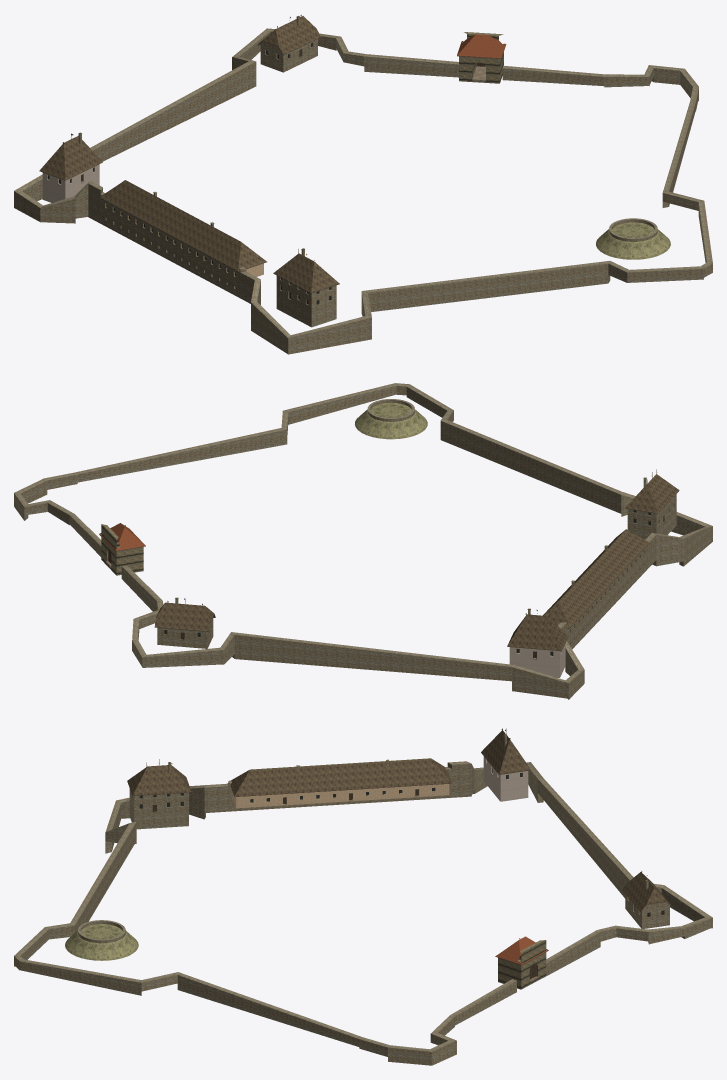
Rendered from fortyfikacje_lekki.glb.
3 renders of one model, top to bottom at view 1: azimuth 30°, elevation 25°; view 2: azimuth 150°, elevation 25°; view 3: azimuth 270°, elevation 25°, orthographic. The views are drawn at different scales.
Visible parts, largest first — view 1: fort_mur__kamien_mur, kurtyna_dach__gont, pawilon_SW_mur__kamien_mur, nadszaniec__ziemia, pawilon_W_dach__gont, pawilon_SW_dach__gont, pawilon_N_dach__gont, pawilon_W_mur__tynk, pawilon_N_mur__kamien_mur, brama_mur__kamien_detal, brama_dach__dachowka; view 2: fort_mur__kamien_mur, kurtyna_dach__gont, nadszaniec__ziemia, pawilon_W_dach__gont, pawilon_N_dach__gont, pawilon_SW_mur__kamien_mur, pawilon_W_mur__tynk, brama_mur__kamien_detal, pawilon_SW_dach__gont, pawilon_N_mur__kamien_mur, brama_dach__dachowka; view 3: fort_mur__kamien_mur, kurtyna_dach__gont, kurtyna_mur__tynk_ruina, pawilon_SW_mur__kamien_mur, nadszaniec__ziemia, pawilon_SW_dach__gont, brama_mur__kamien_detal, pawilon_W_mur__tynk, pawilon_W_dach__gont, pawilon_N_mur__kamien_mur, pawilon_N_dach__gont.
Boxes of the visible parts, left/top/right/bottom form: fort_mur__kamien_mur: left=14, top=28, right=712, bottom=354; kurtyna_dach__gont: left=99, top=180, right=266, bottom=271; pawilon_SW_mur__kamien_mur: left=276, top=275, right=336, bottom=327; nadszaniec__ziemia: left=596, top=222, right=670, bottom=259; pawilon_W_dach__gont: left=39, top=136, right=102, bottom=180; pawilon_SW_dach__gont: left=273, top=253, right=339, bottom=293; pawilon_N_dach__gont: left=262, top=16, right=320, bottom=54; pawilon_W_mur__tynk: left=42, top=164, right=99, bottom=202; pawilon_N_mur__kamien_mur: left=260, top=39, right=317, bottom=72; brama_mur__kamien_detal: left=459, top=32, right=503, bottom=83; brama_dach__dachowka: left=457, top=34, right=506, bottom=58; fort_mur__kamien_mur: left=14, top=383, right=712, bottom=699; kurtyna_dach__gont: left=543, top=529, right=649, bottom=628; nadszaniec__ziemia: left=355, top=402, right=427, bottom=439; pawilon_W_dach__gont: left=507, top=614, right=567, bottom=650; pawilon_N_dach__gont: left=154, top=602, right=214, bottom=631; pawilon_SW_mur__kamien_mur: left=627, top=494, right=676, bottom=539; pawilon_W_mur__tynk: left=509, top=643, right=565, bottom=677; brama_mur__kamien_detal: left=101, top=524, right=143, bottom=575; pawilon_SW_dach__gont: left=625, top=474, right=679, bottom=513; pawilon_N_mur__kamien_mur: left=157, top=617, right=213, bottom=648; brama_dach__dachowka: left=99, top=523, right=145, bottom=550; fort_mur__kamien_mur: left=14, top=761, right=712, bottom=1065; kurtyna_dach__gont: left=230, top=758, right=451, bottom=796; kurtyna_mur__tynk_ruina: left=232, top=784, right=449, bottom=808; pawilon_SW_mur__kamien_mur: left=129, top=789, right=188, bottom=829; nadszaniec__ziemia: left=65, top=924, right=138, bottom=960; pawilon_SW_dach__gont: left=127, top=765, right=191, bottom=795; brama_mur__kamien_detal: left=498, top=940, right=546, bottom=989; pawilon_W_mur__tynk: left=483, top=756, right=528, bottom=801; pawilon_W_dach__gont: left=481, top=730, right=530, bottom=774; pawilon_N_mur__kamien_mur: left=625, top=894, right=669, bottom=928; pawilon_N_dach__gont: left=622, top=872, right=671, bottom=911.
Size of the model in its own units: 191 by 23.62 by 189.
Materials: 17 (14 with a texture image).
